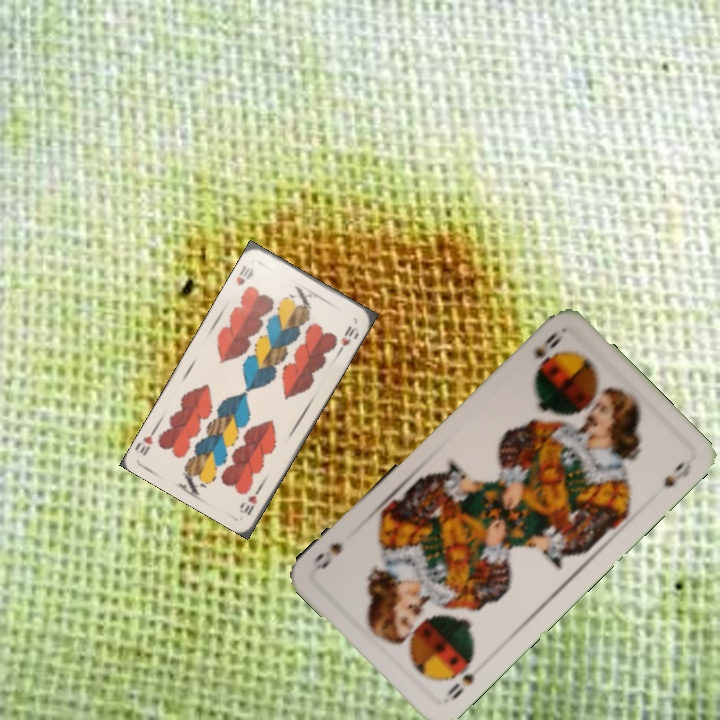H10: (236, 481, 265, 517), (232, 261, 256, 289)
SO: (443, 654, 478, 702), (530, 327, 566, 362)
